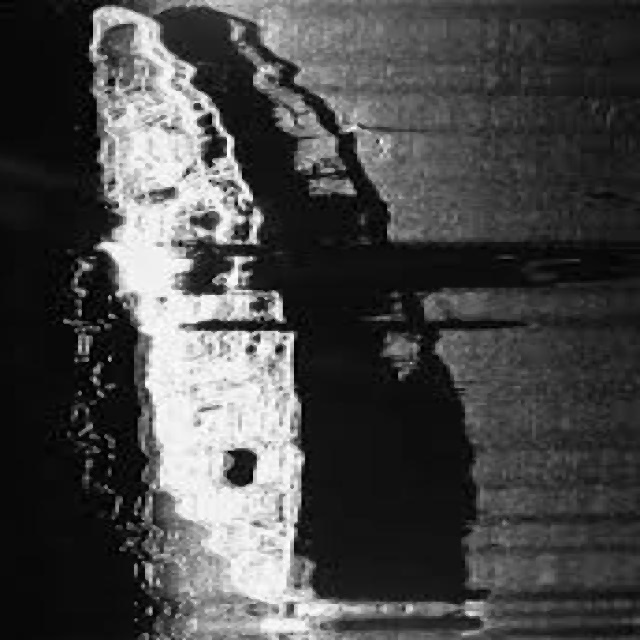Ship: (71, 1, 474, 640)
